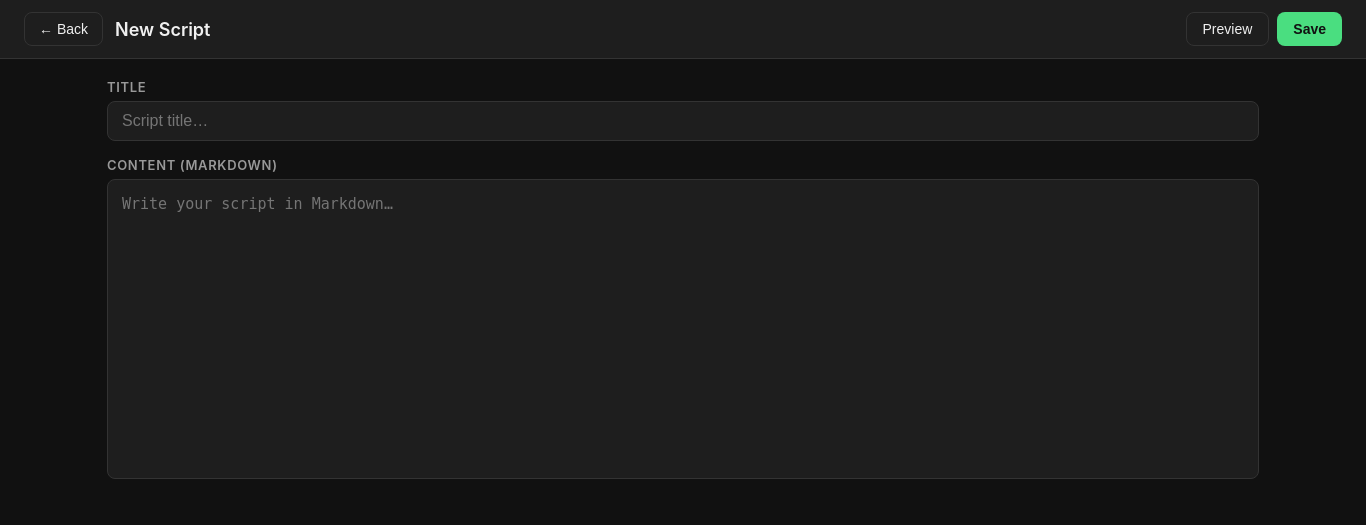
ScriptEditor › shows validation error when saving without a title
Click the button with class "btn-accent". click: x=1310, y=29
box: [1277, 12, 1342, 46]
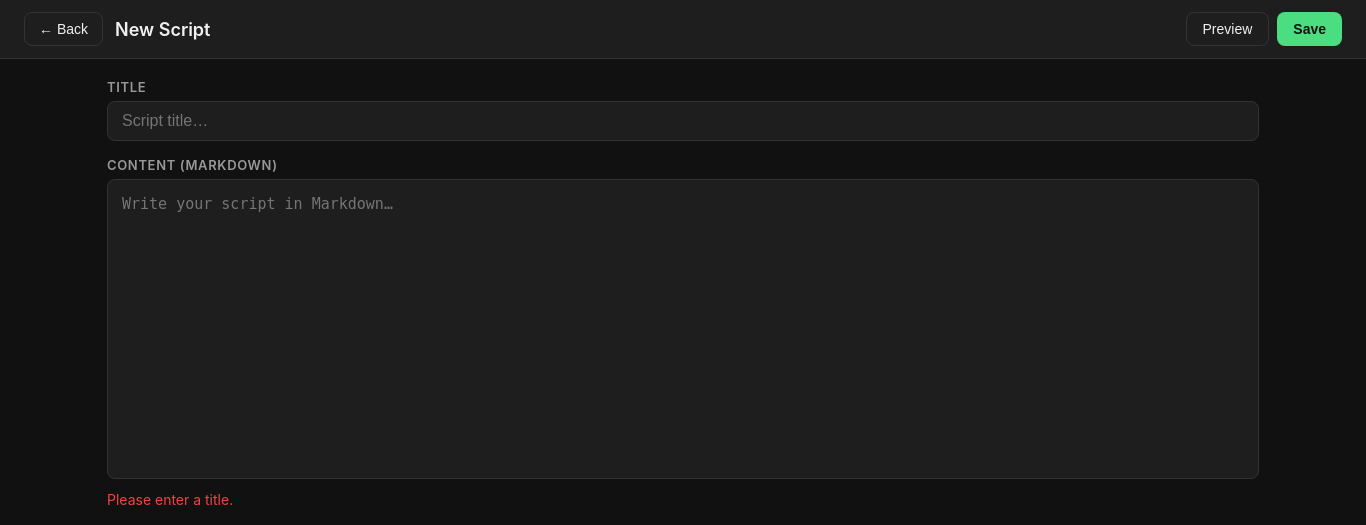
Expected: the text with class "error-msg" reads "Please enter a title.", [107, 491, 233, 508]
